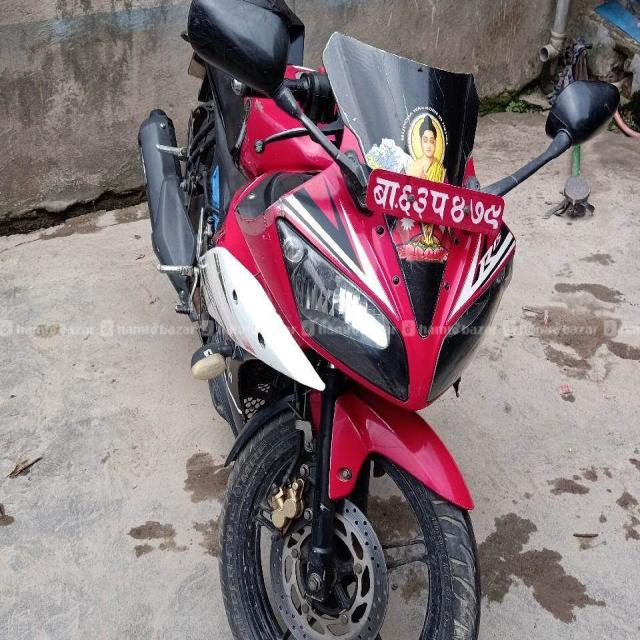License-plate: (368, 164, 505, 244)
